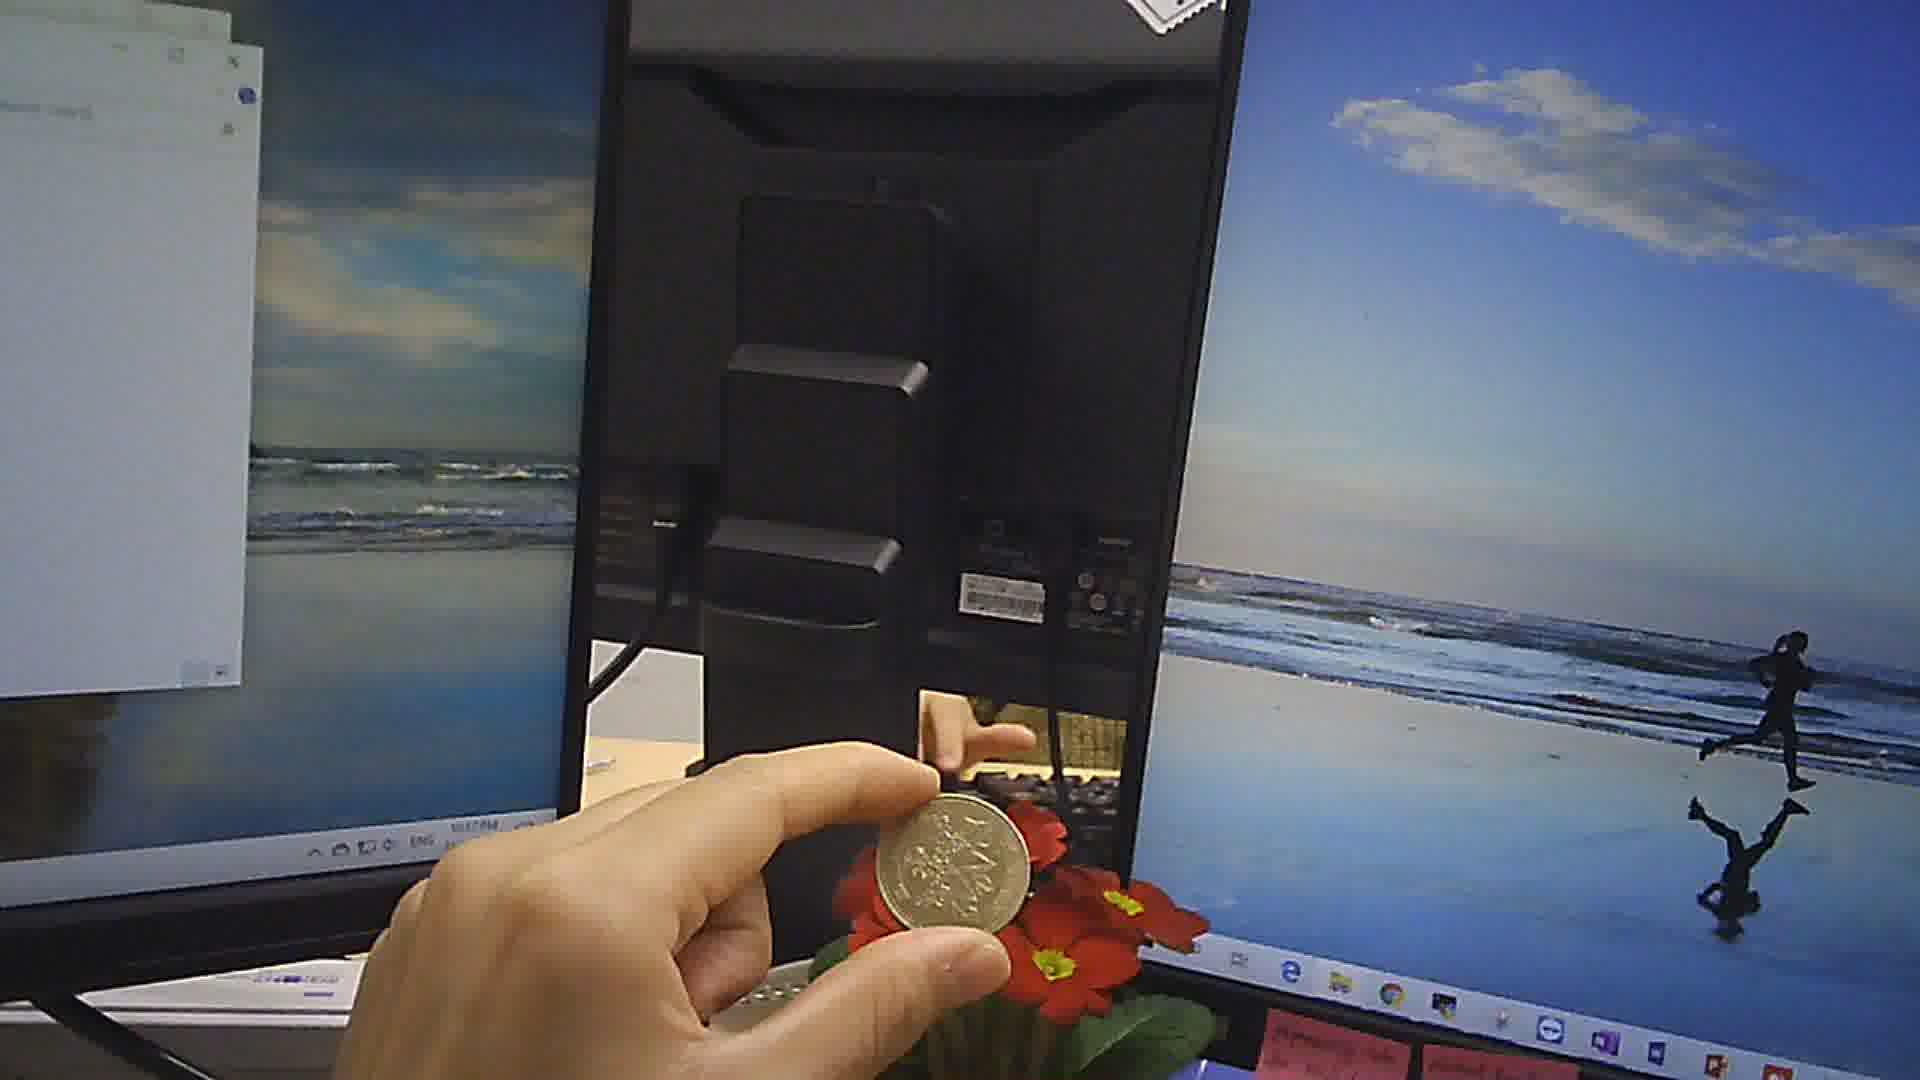500 Yen: (865, 785, 1036, 945)
